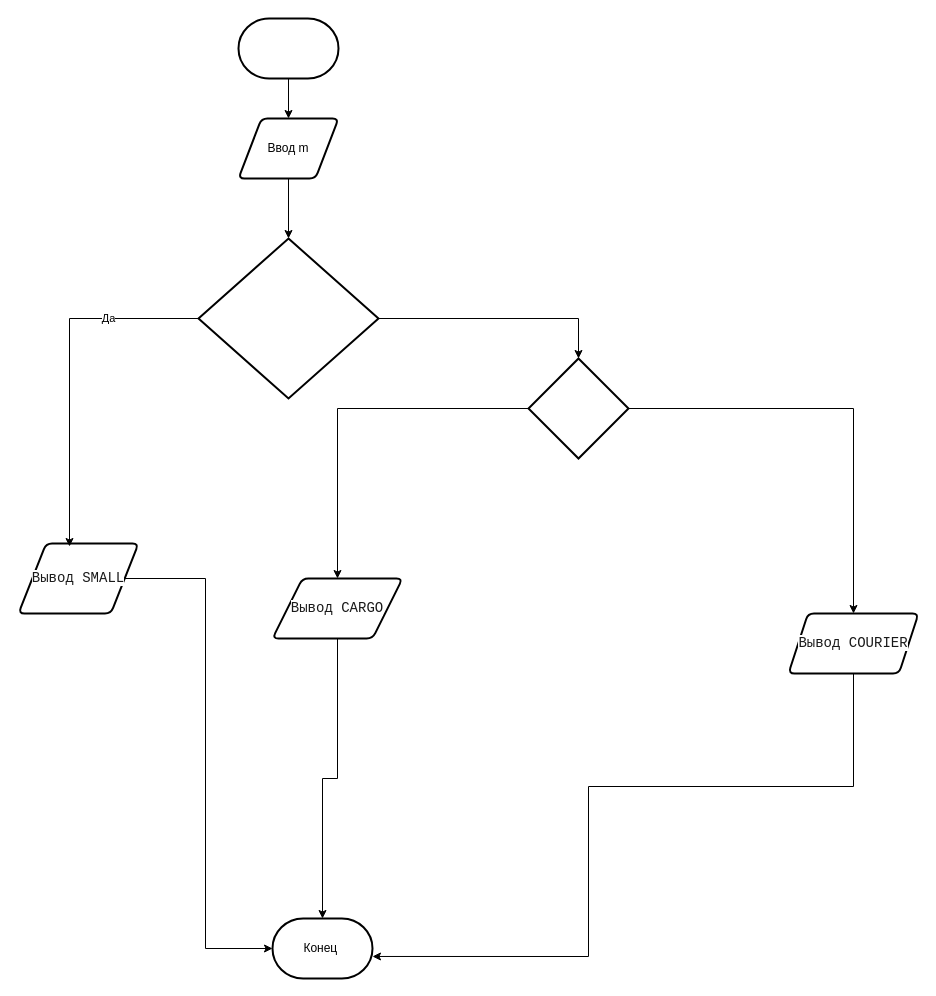
This 936x996 diagram has some shape labels left out. The centre of each missing label's shape, as x and y in pixels:
"m <= 2000" goes at [288,318].
"m <= 5000" goes at [578,408].
"Начало" goes at [288,48].
